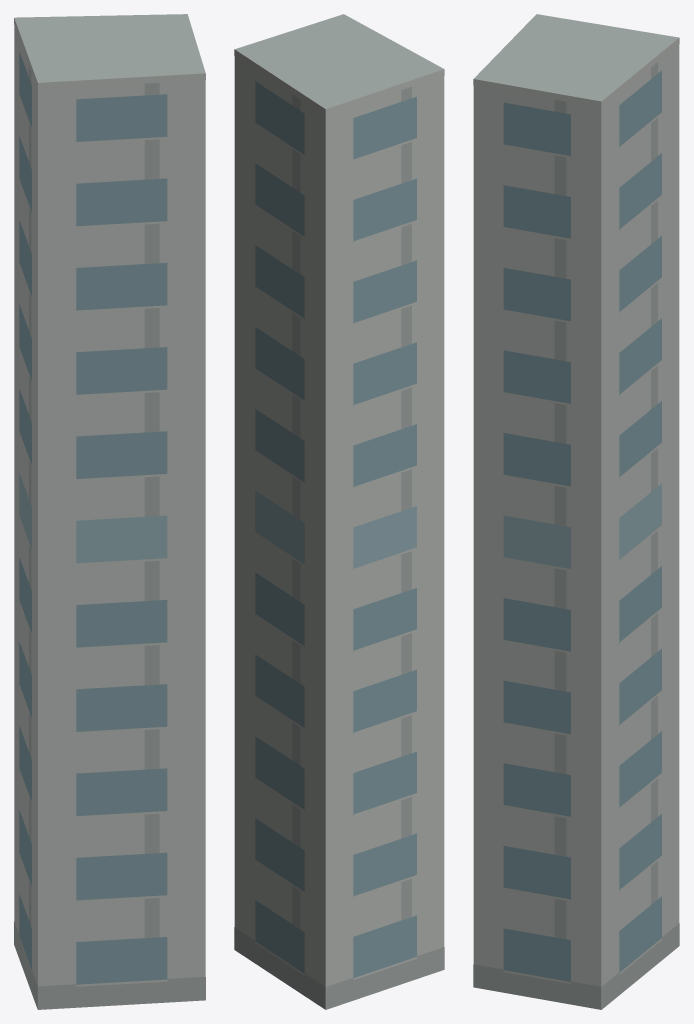
The model's file is survey-upis-32892221.glb.
The picture shows the model from 3 angles, left to right: view 1: azimuth 30°, elevation 25°; view 2: azimuth 150°, elevation 25°; view 3: azimuth 270°, elevation 25°; orthographic projection. The views are drawn at different scales.
Parts seen in each view (by area): view 1: survey-upis-32892221.tmp; view 2: survey-upis-32892221.tmp; view 3: survey-upis-32892221.tmp.
Part boxes in pixels (x1,y1,x2,y2): survey-upis-32892221.tmp: [14, 14, 205, 1009]; survey-upis-32892221.tmp: [234, 14, 444, 1009]; survey-upis-32892221.tmp: [473, 14, 679, 1009].
Bounding box in the file's own units: 6.94 × 33.55 × 6.91.
